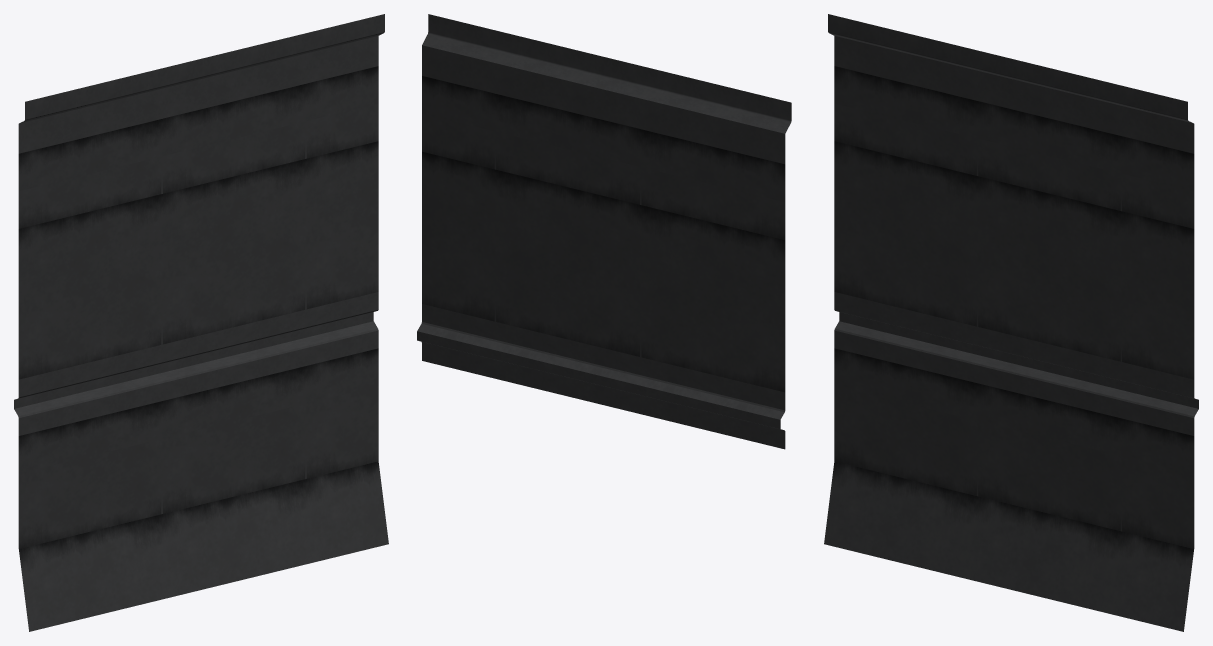
File: M_Wall_Straight_10x14_v4.fbx
The picture shows the model from 3 angles, left to right: view 1: azimuth 30°, elevation 25°; view 2: azimuth 150°, elevation 25°; view 3: azimuth 330°, elevation 25°; orthographic projection.
Parts seen in each view (by area): view 1: Wall_Straight_10x14_v4; view 2: Wall_Straight_10x14_v4; view 3: Wall_Straight_10x14_v4.
Boxes of the visible parts, x1,y1,x2,y2 form: Wall_Straight_10x14_v4: (14, 14, 388, 631); Wall_Straight_10x14_v4: (417, 14, 791, 449); Wall_Straight_10x14_v4: (824, 14, 1198, 631).
Bounding box in the file's own units: 1000 × 1400 × 73.02.
